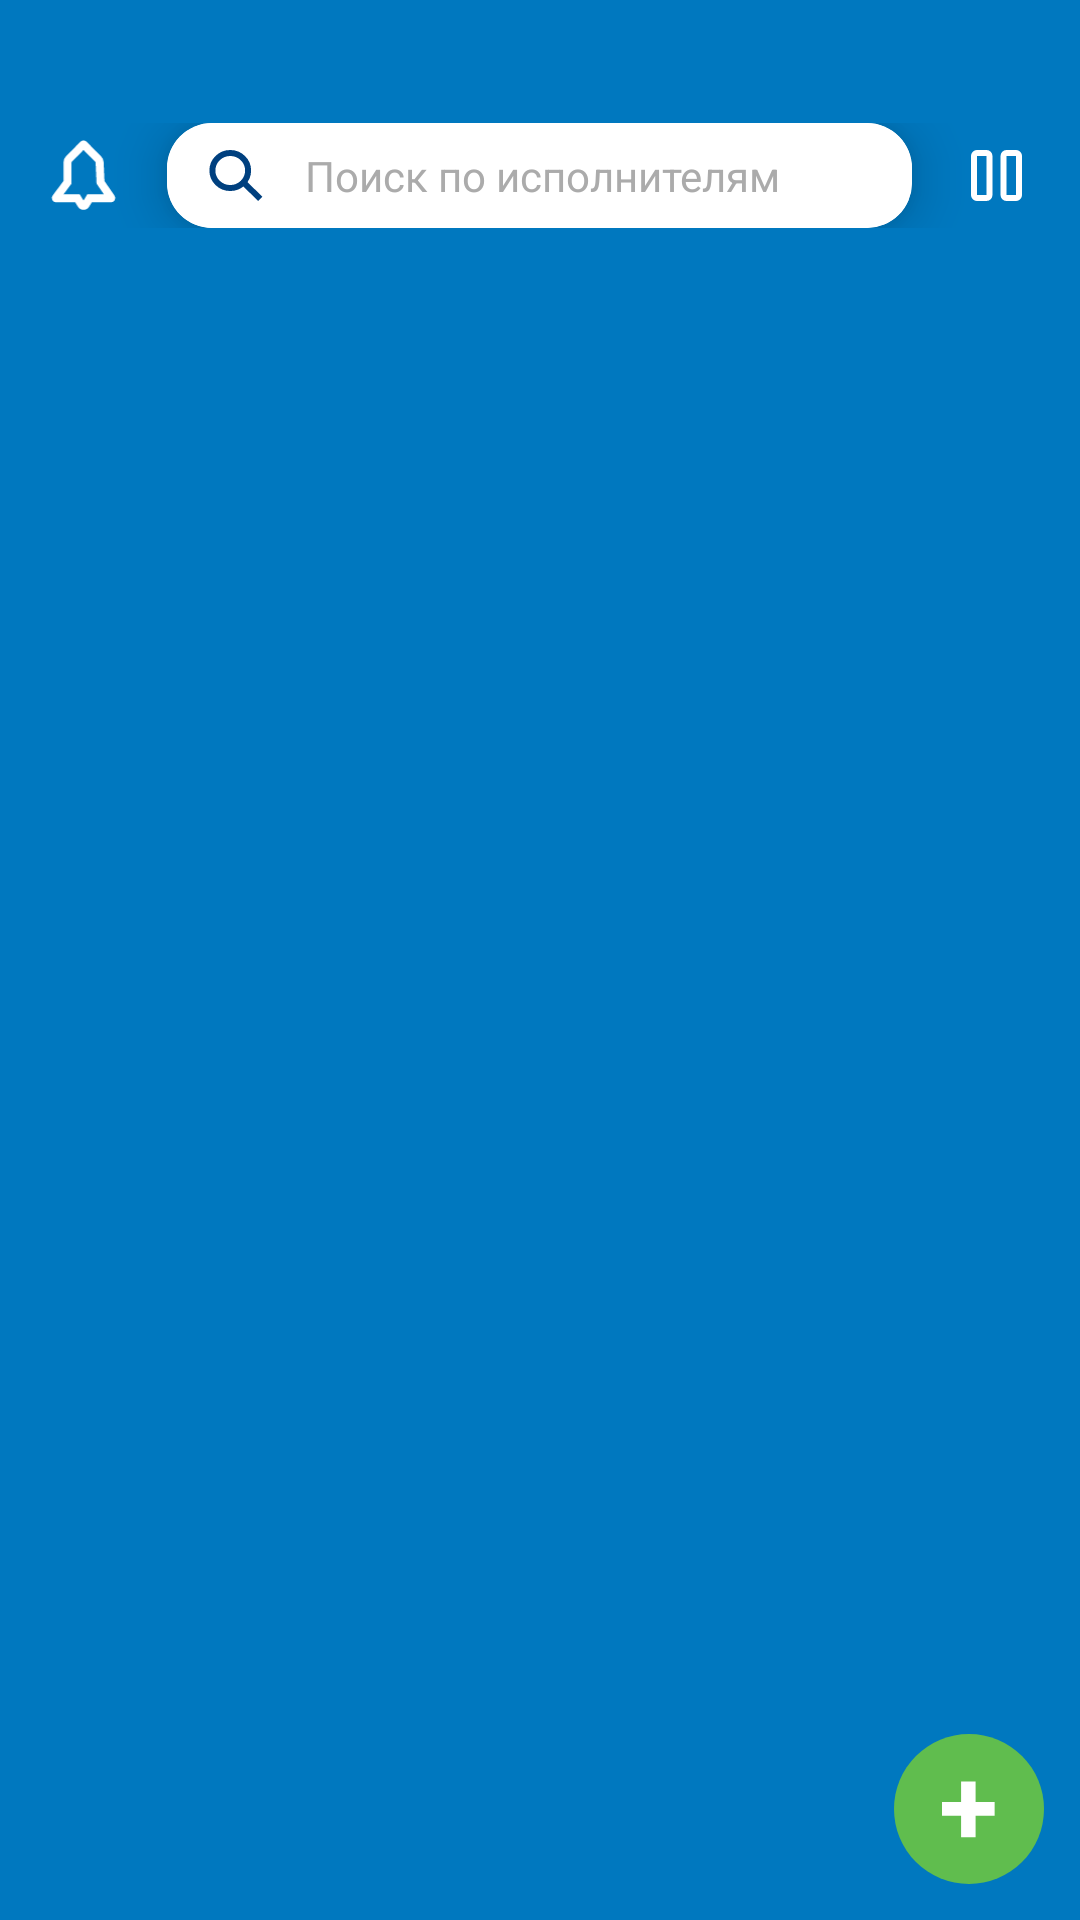

Point at icon controls on the screen. Image size 1080 x 1920, points as [x,y].
add task: [969,1809]
bell: [83,175]
